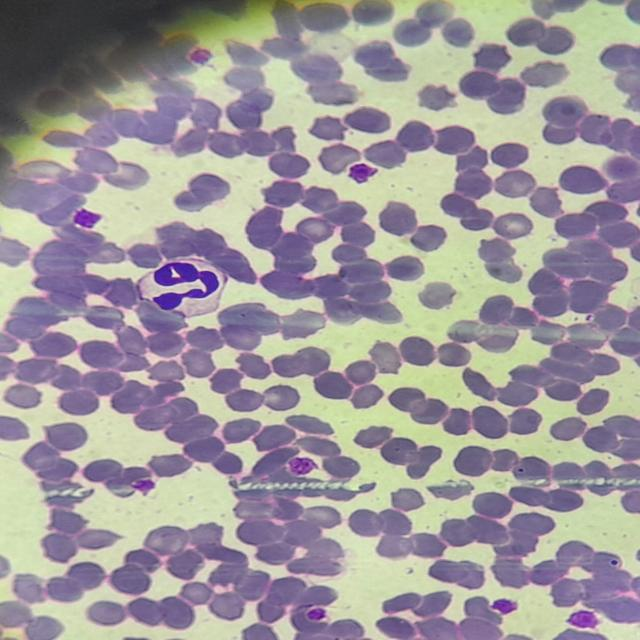Neutrofilo: (139, 259, 227, 317)
